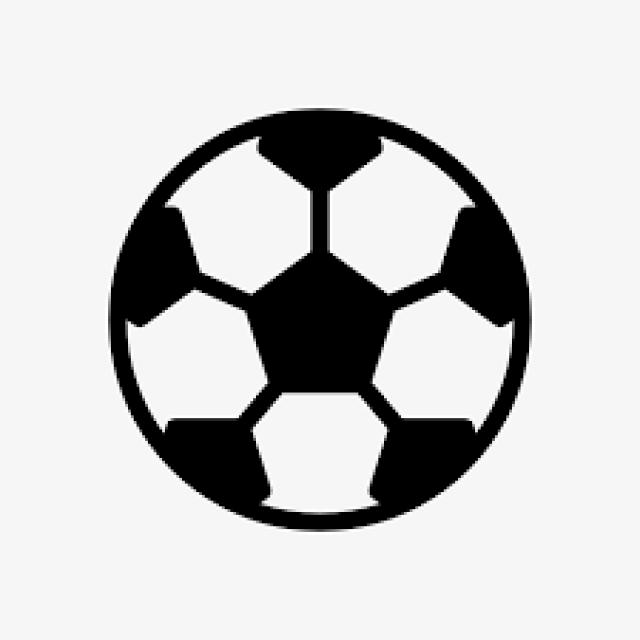football: (108, 105, 535, 532)
